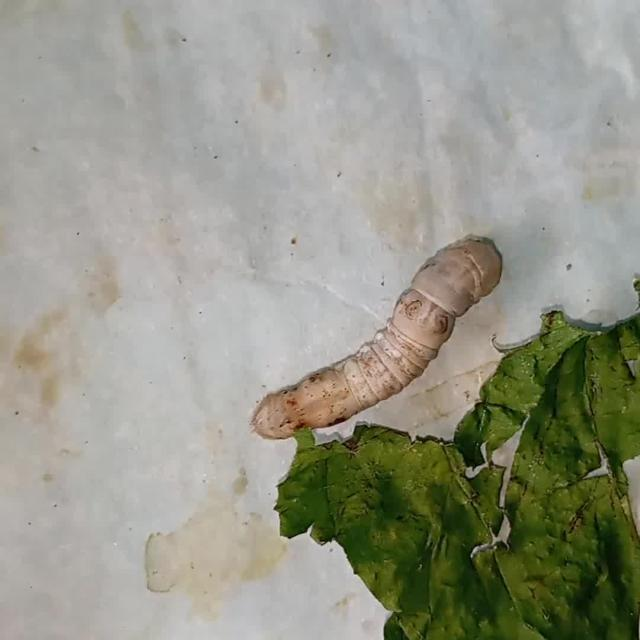Grasserie: (229, 212, 541, 488)
